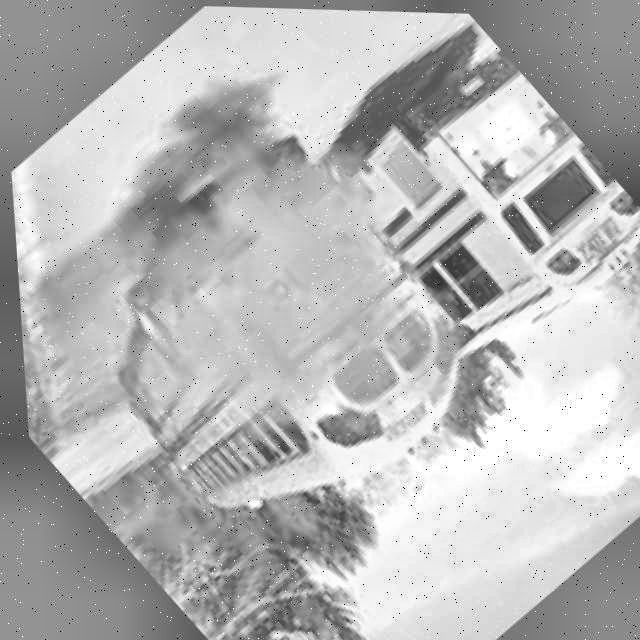Smoke: (51, 84, 457, 474)
